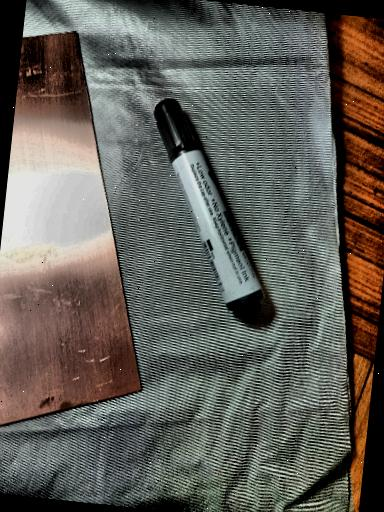marcador negro: (154, 99, 261, 311)
